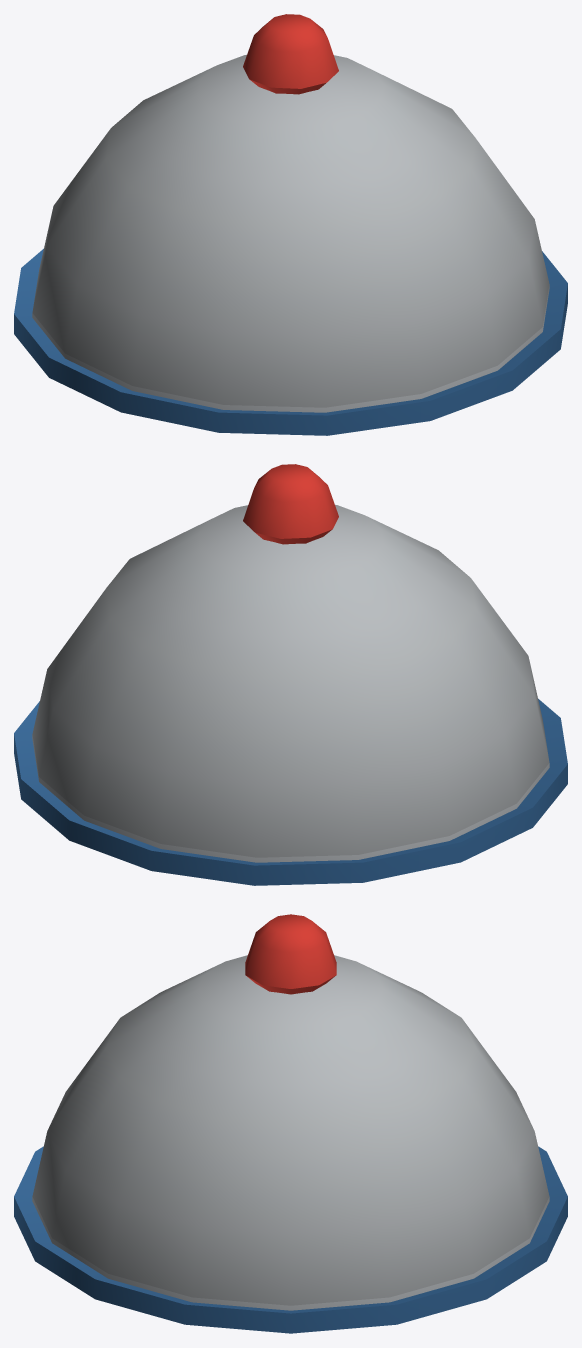
Rendered from SM_Cloche_01.glb.
The picture shows the model from 3 angles, top to bottom: view 1: azimuth 30°, elevation 25°; view 2: azimuth 150°, elevation 25°; view 3: azimuth 270°, elevation 25°; orthographic projection.
Parts seen in each view (by area): view 1: SM_Cloche_01; view 2: SM_Cloche_01; view 3: SM_Cloche_01.
Boxes of the visible parts, x1,y1,x2,y2 form: SM_Cloche_01: (14, 14, 567, 435); SM_Cloche_01: (14, 464, 567, 885); SM_Cloche_01: (14, 914, 567, 1333).
Bounding box in the file's own units: 0.3 × 0.197 × 0.3.
1 material, 1 textured.
